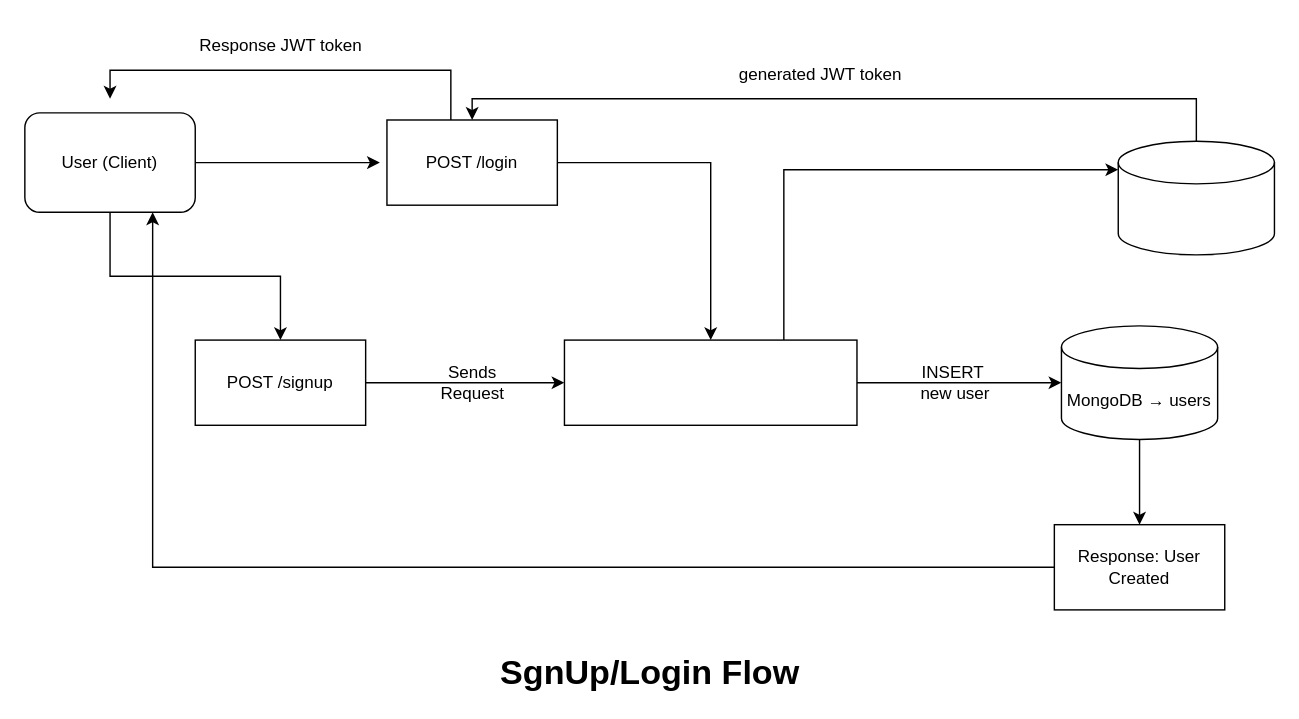
Some shapes in this 1299 by 719 pixel diagram are drawn without their labels. The centre of each missing label's shape, as x and y in pixels:
"authController.signup()" belongs at point 710,382.
"MongoDB → users (findOne)" belongs at point 1195,197.
